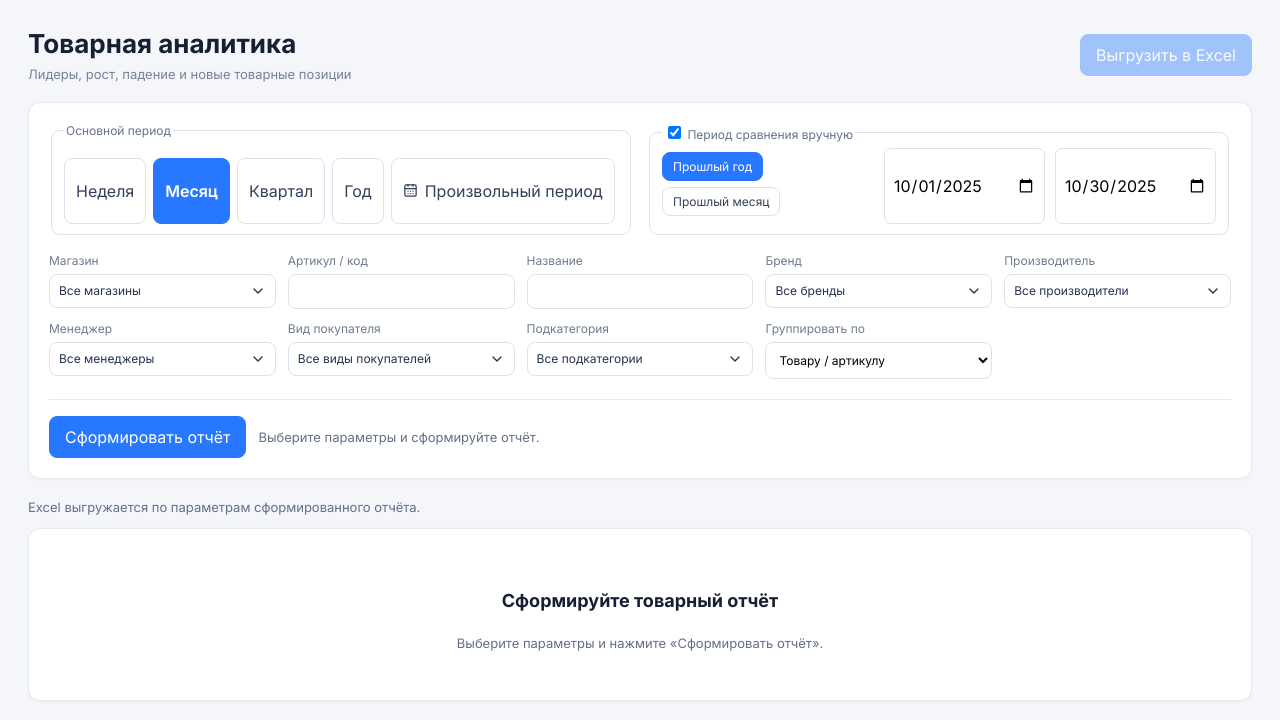
Test: explicit product analytics loading › 503 has a friendly error, no automatic retry, and exact manual retry after an error
Click the button "Сформировать отчёт".
click(148, 437)  # box [49,416,246,458]
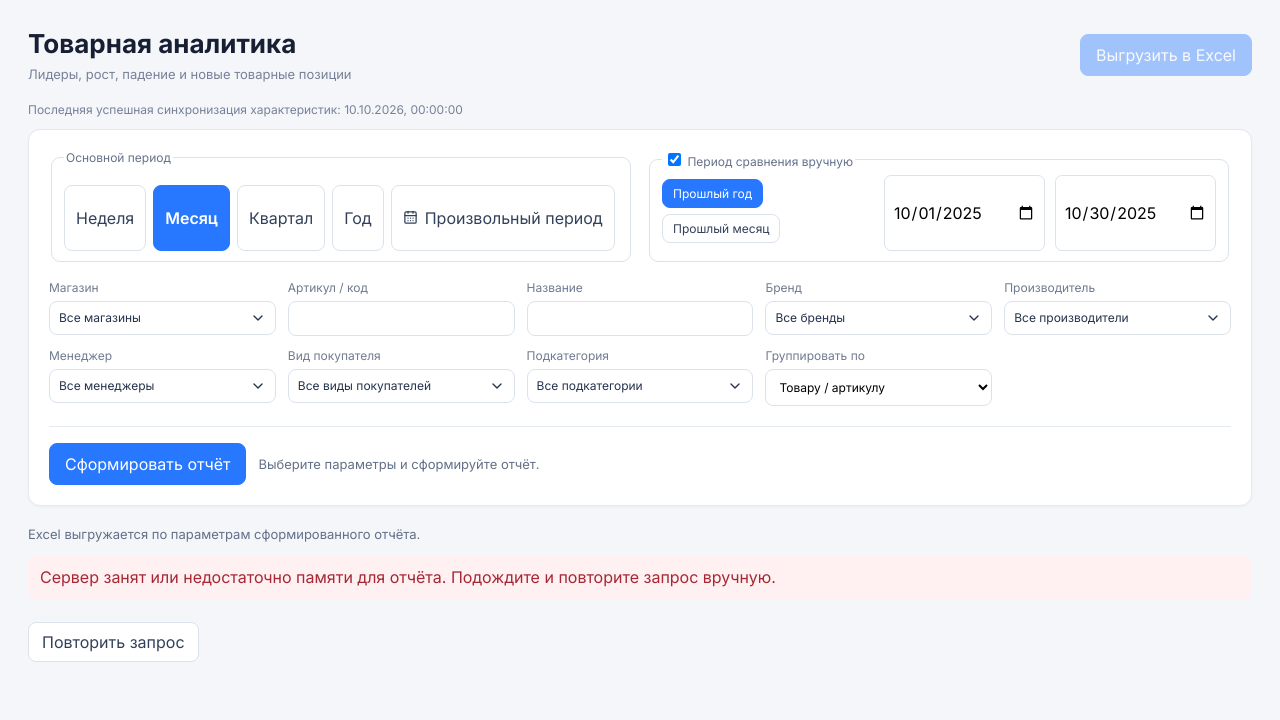
Result: the text "Сервер занят или недостаточно памяти" is shown at [40,567,776,587]
Type "Другой черновик" into the field labelled "Название".
click(640, 318); type("Другой черновик")  # box [527,301,753,336]
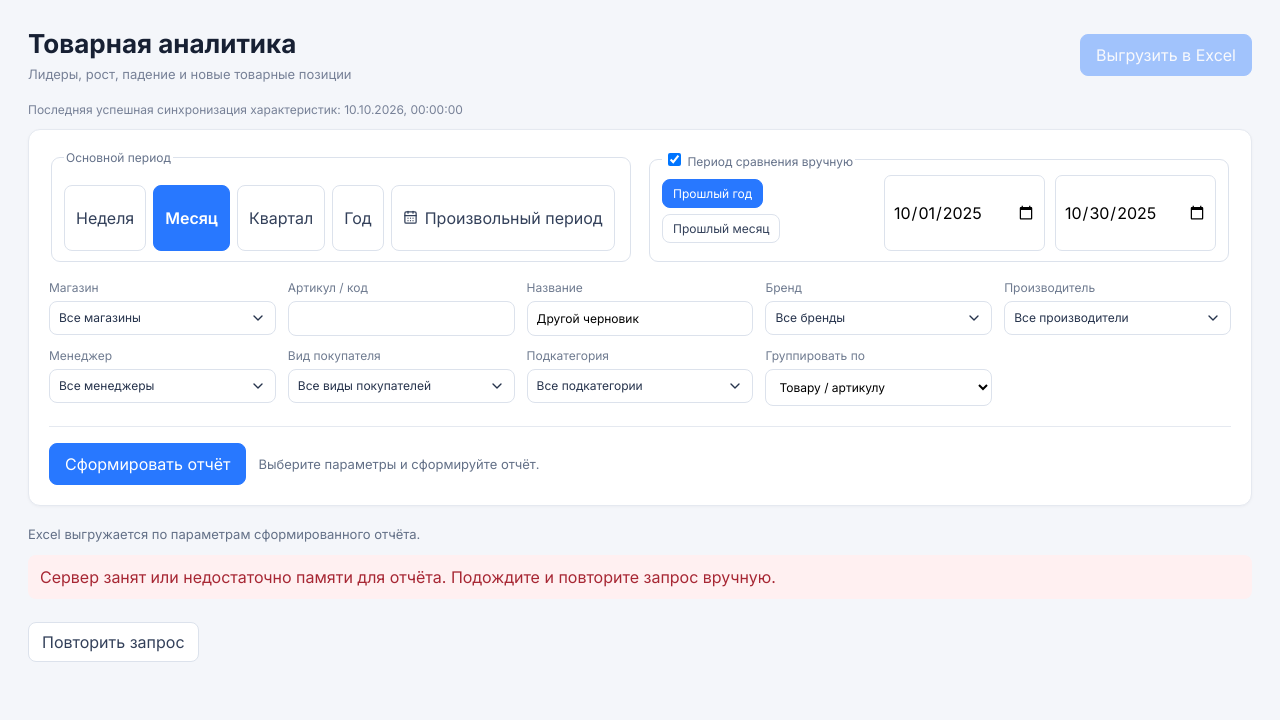
Click the button "Повторить запрос".
click(113, 642)  # box [28,622,198,662]
(page scrolled)
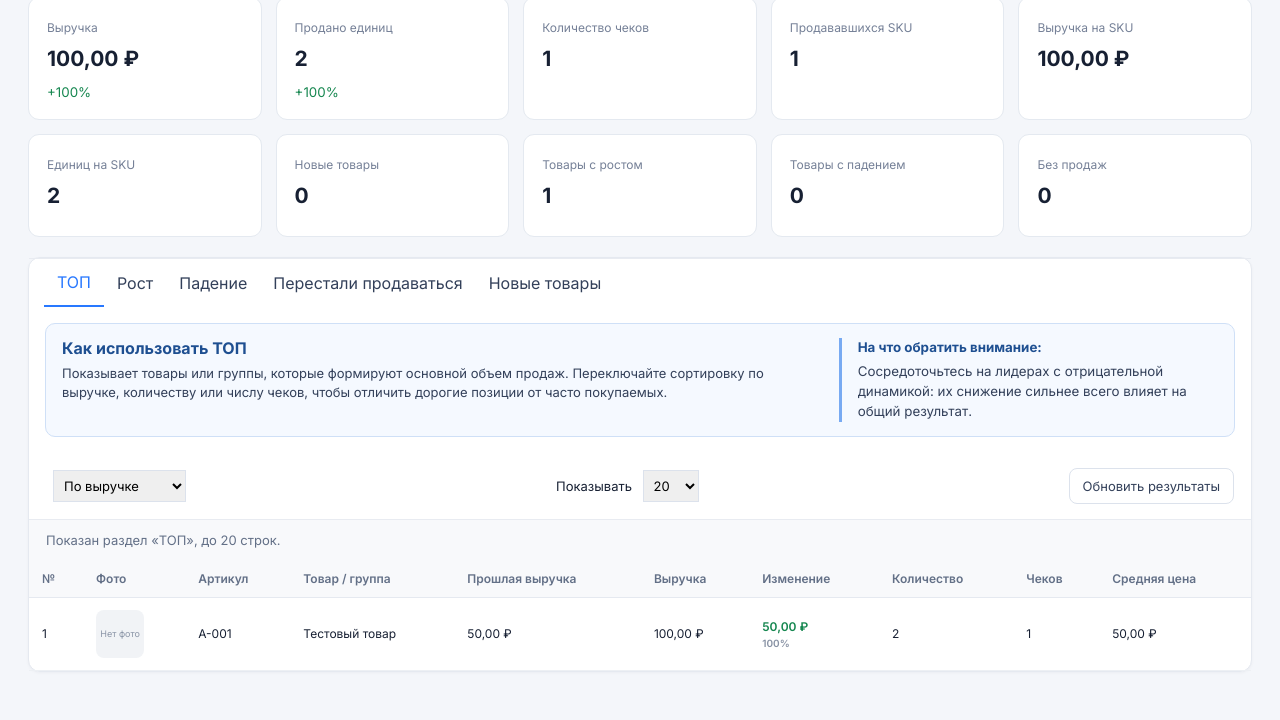
Result: the text "Тестовый товар" is shown at [290,597,454,670]
